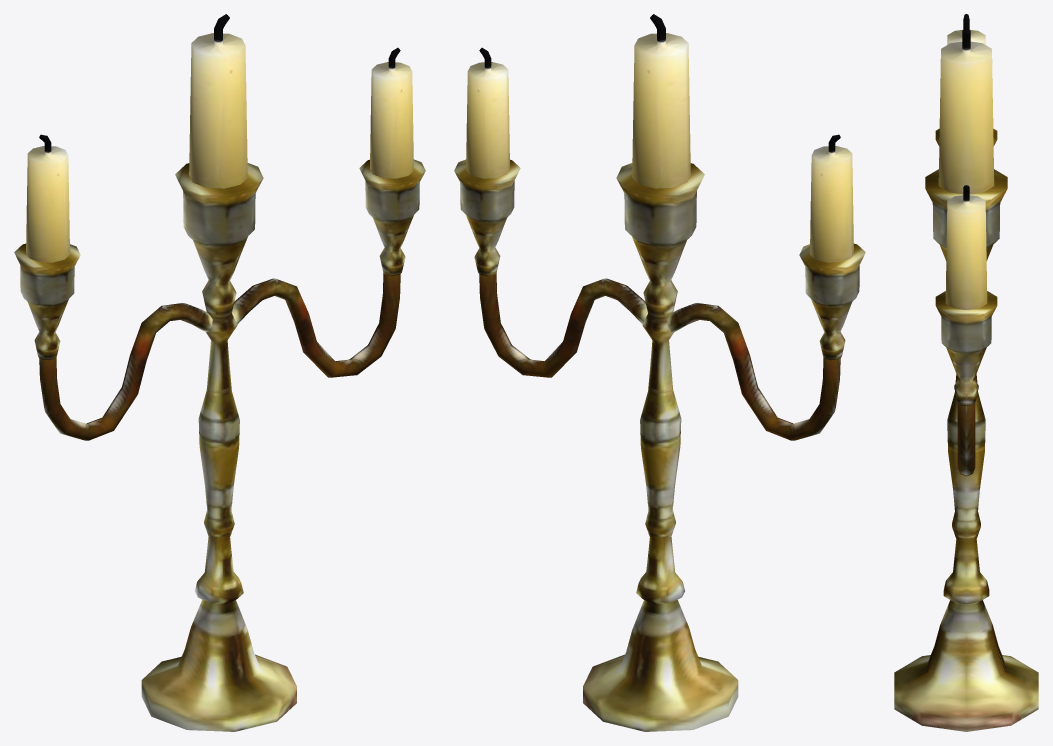
Rendered from Candlesticks.dae.
The picture shows the model from 3 angles, left to right: view 1: azimuth 30°, elevation 25°; view 2: azimuth 150°, elevation 25°; view 3: azimuth 270°, elevation 25°; orthographic projection.
Parts seen in each view (by area): view 1: meshU3D; view 2: meshU3D; view 3: meshU3D.
Part boxes in pixels (bbox=[...]): meshU3D: bbox=[14, 14, 425, 731]; meshU3D: bbox=[454, 14, 865, 731]; meshU3D: bbox=[894, 14, 1038, 731].
Bounding box in the file's own units: 10.79 × 17.48 × 3.39.
